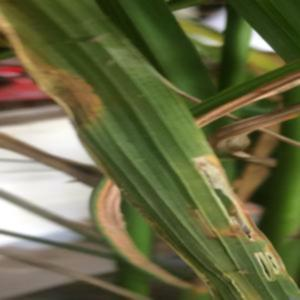2 BacterialBlight: (22, 1, 170, 177)
